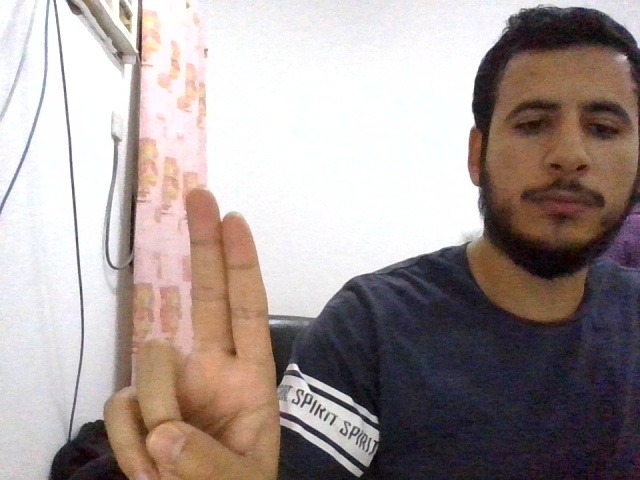Two: (104, 188, 280, 480)
